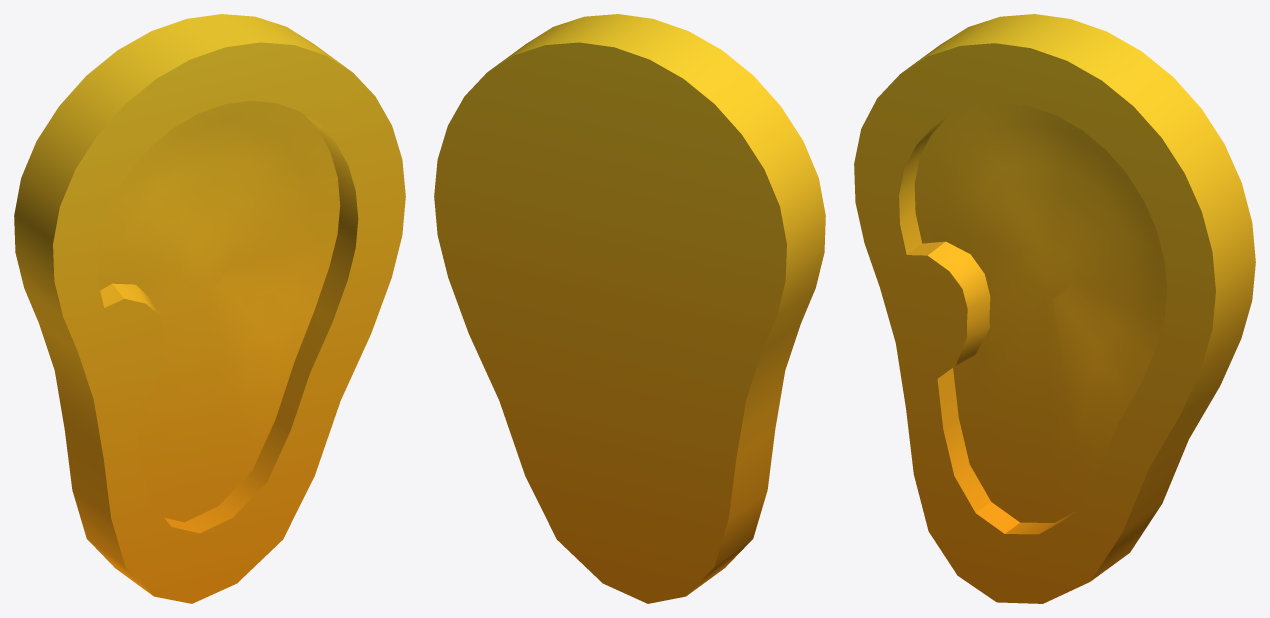
Rendered from ear.glb.
3 views of the same model, side by side, from view 1: azimuth 30°, elevation 25°; view 2: azimuth 150°, elevation 25°; view 3: azimuth 330°, elevation 25° (orthographic). The views are drawn at different scales.
Parts seen in each view (by area): view 1: Circle.274; view 2: Circle.274; view 3: Circle.274.
Part boxes in pixels (bbox=[...]): Circle.274: bbox=[14, 14, 405, 603]; Circle.274: bbox=[434, 14, 825, 603]; Circle.274: bbox=[854, 14, 1255, 603].
Bounding box in the file's own units: 1.42 × 2.11 × 0.2709.
1 material, 1 textured.
